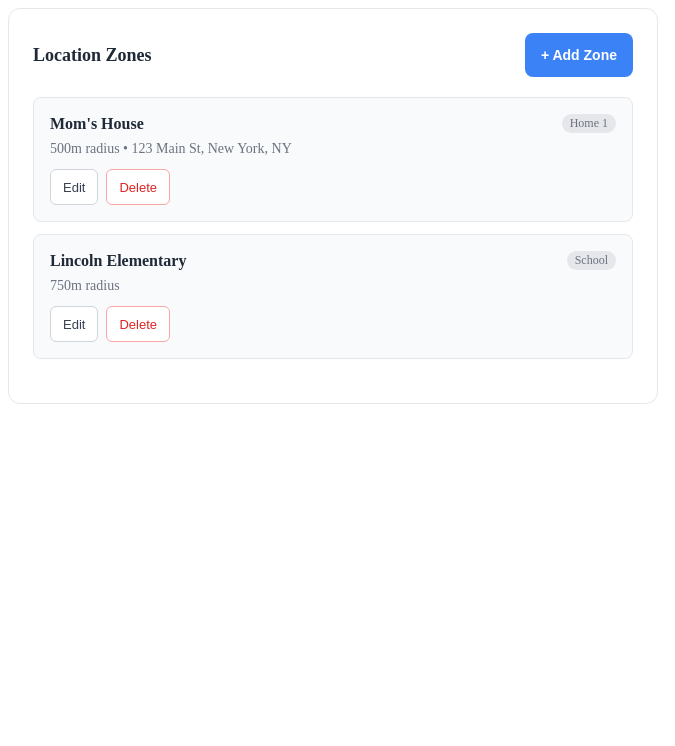
LocationZoneEditor › Create Zone › closes form after save
The image size is (675, 746).
Step 1. Click the button with test id "add-zone-button" → (579, 55), box left=525, top=33, right=633, bottom=77
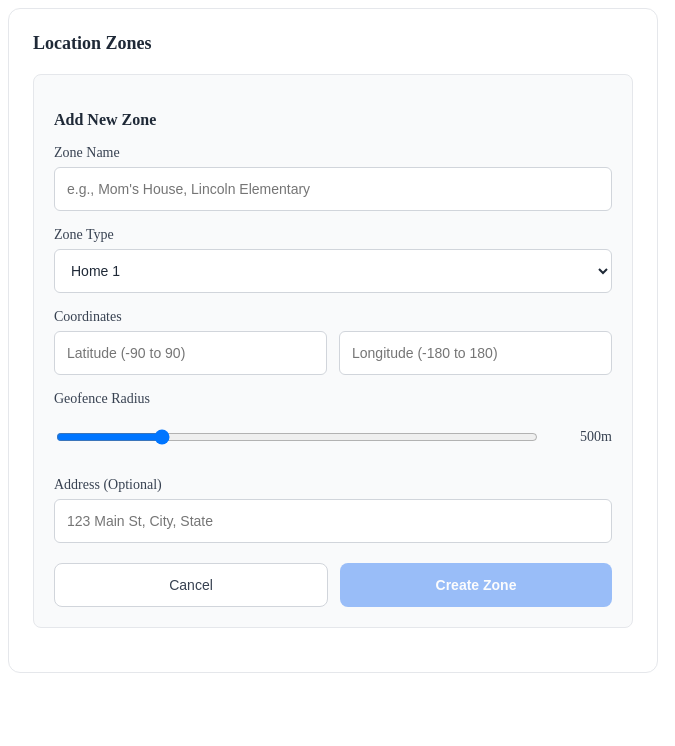
Step 2. Type "New Zone" into the field with test id "zone-name-input" → (333, 189), box left=54, top=167, right=612, bottom=211
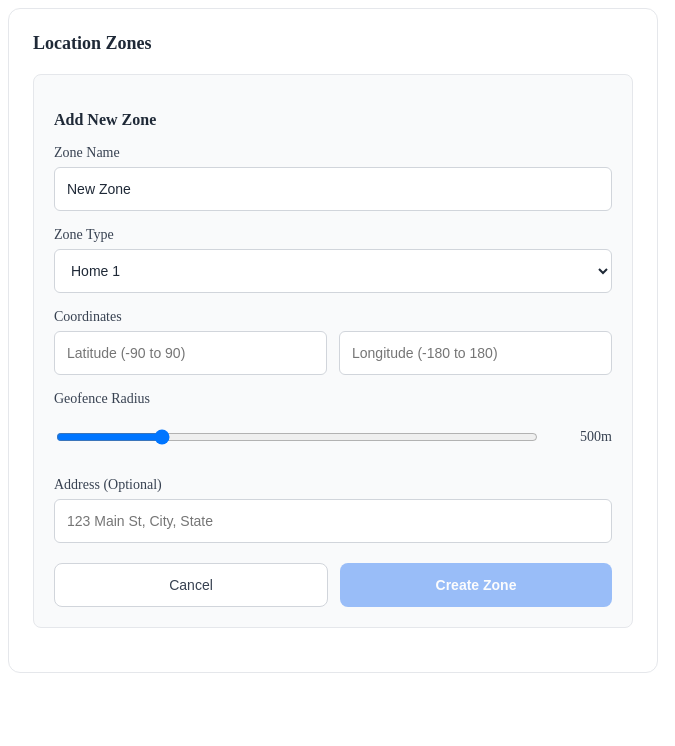
Step 3. Type "40.7128" into the number field with test id "latitude-input" → (190, 353), box left=54, top=331, right=327, bottom=375
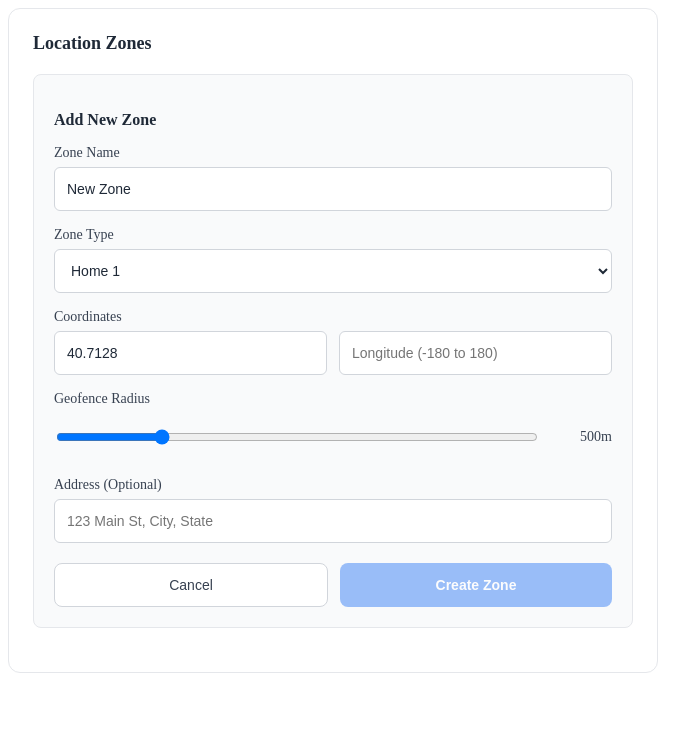
Step 4. Type "-74.006" into the number field with test id "longitude-input" → (476, 353), box left=339, top=331, right=612, bottom=375
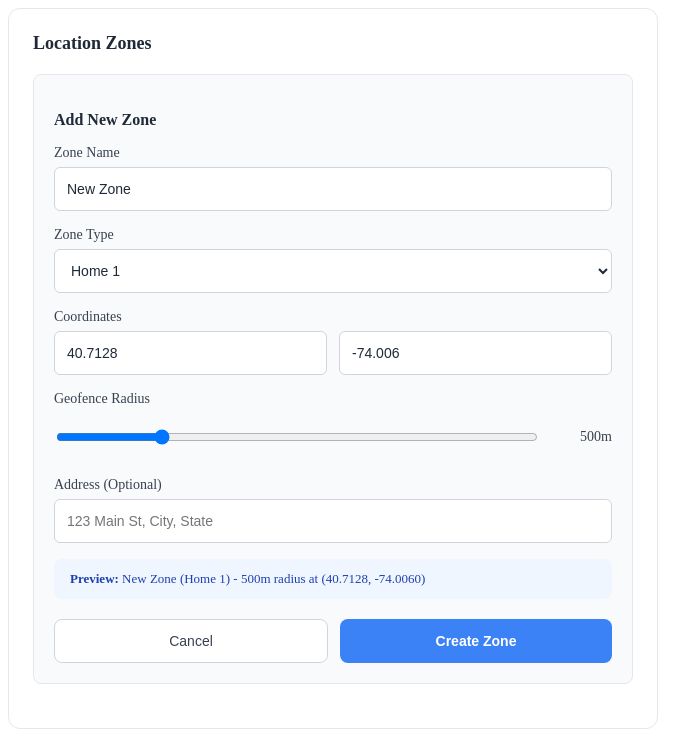
Step 5. Click the button with test id "save-button" → (476, 641), box left=340, top=619, right=612, bottom=663
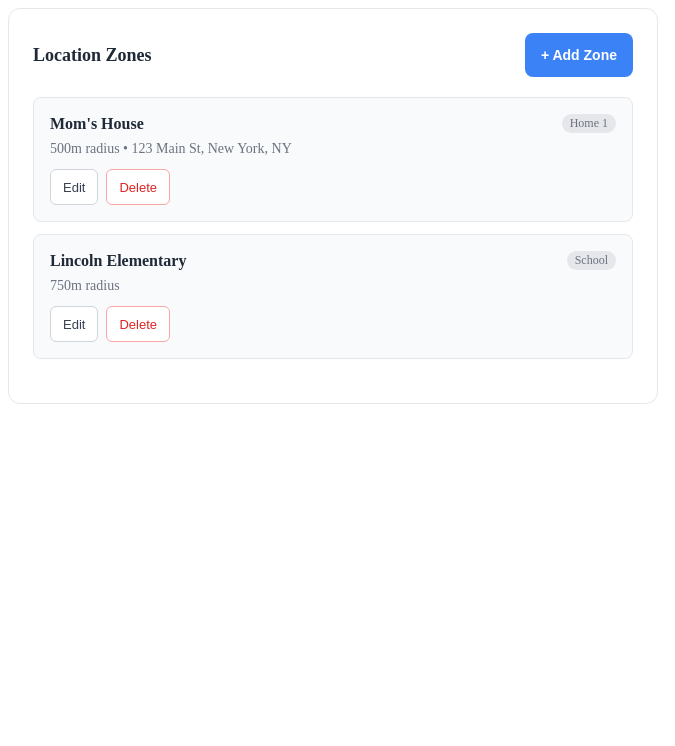
Expected: the element with test id "zone-form" is gone
